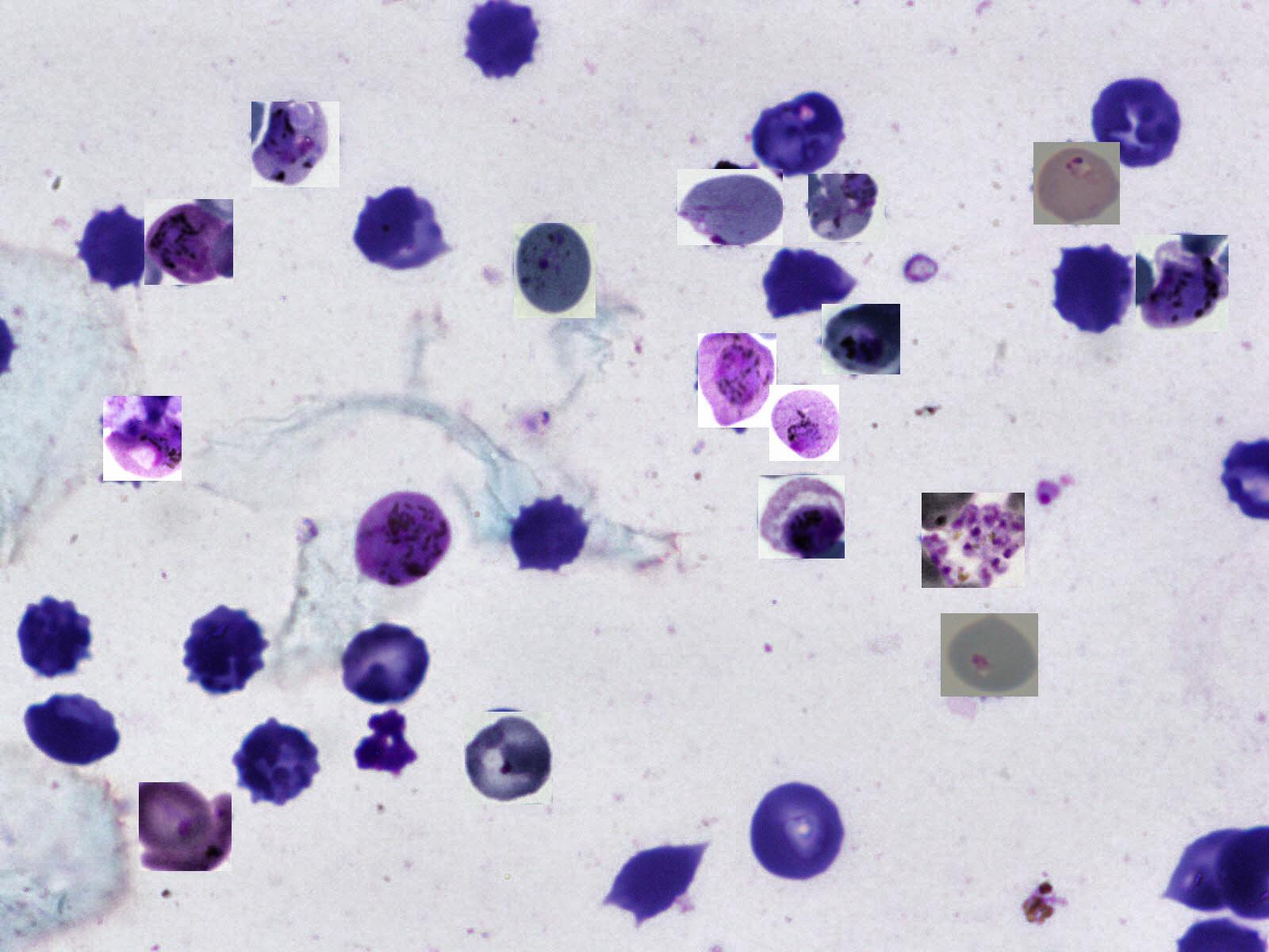Infected: (354, 487, 452, 588), (922, 493, 1025, 588), (1136, 235, 1229, 332), (139, 782, 232, 871), (941, 613, 1038, 697), (465, 712, 553, 804), (677, 169, 783, 245), (514, 224, 596, 319), (145, 199, 233, 285), (251, 102, 339, 187), (698, 333, 776, 428), (758, 475, 845, 559), (1033, 142, 1120, 225), (103, 396, 182, 481), (822, 304, 900, 374), (769, 385, 839, 461), (808, 174, 886, 242)
Uninfected: (747, 782, 847, 888), (352, 187, 448, 274), (1093, 75, 1180, 169), (338, 623, 434, 708), (756, 88, 842, 180), (22, 691, 121, 767), (232, 719, 315, 807), (185, 608, 268, 693), (1055, 245, 1133, 332), (1167, 826, 1242, 916), (508, 494, 592, 574), (763, 247, 855, 318), (464, 1, 542, 80), (18, 597, 92, 680), (81, 209, 153, 294), (612, 850, 696, 918)
